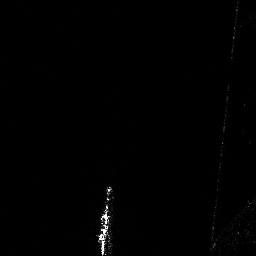ship: (97, 183, 114, 256)
